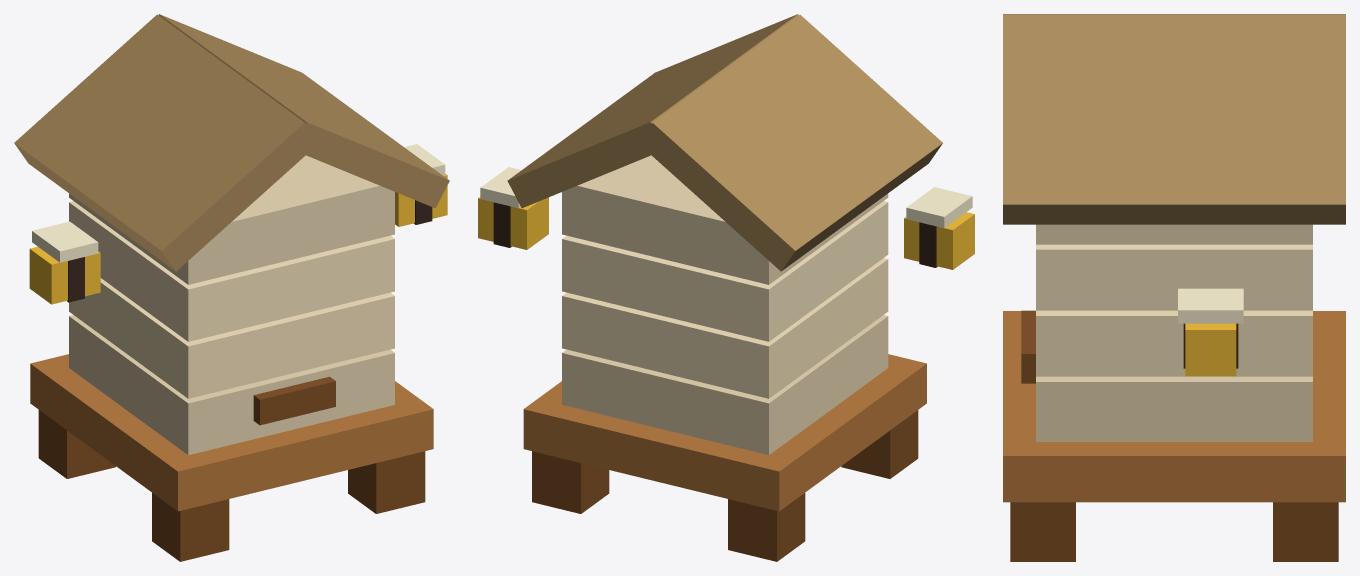
Rendered from machine-beehive.glb.
The picture shows the model from 3 angles, left to right: view 1: azimuth 30°, elevation 25°; view 2: azimuth 150°, elevation 25°; view 3: azimuth 270°, elevation 25°; orthographic projection. The views are drawn at different scales.
Parts seen in each view (by area): view 1: Roof l, Stand, Hive_p.001, Hive_p.002, Hive_p, Hive_p.003, Roof r, Foot, Foot.002, Foot.001, Slot, Bee (+3 smaller); view 2: Roof l, Stand, Hive_p.002, Hive_p.001, Hive_p, Hive_p.003, Roof r, Foot.001, Foot.003, Foot, Bee, Bee.001 (+4 smaller); view 3: Roof r, Stand, Hive_p, Hive_p.002, Hive_p.001, Hive_p.003, Foot.002, Foot.003, Bee.001, Wing.001, Slot.
Part boxes in pixels (x1=…): Roof l: x1=14, y1=14, x2=318, y2=271; Stand: x1=30, y1=354, x2=433, y2=511; Hive_p.001: x1=69, y1=278, x2=394, y2=398; Hive_p.002: x1=69, y1=201, x2=394, y2=341; Hive_p: x1=69, y1=315, x2=394, y2=455; Hive_p.003: x1=69, y1=155, x2=394, y2=284; Roof r: x1=158, y1=14, x2=449, y2=208; Foot: x1=152, y1=493, x2=229, y2=561; Foot.002: x1=348, y1=451, x2=425, y2=513; Foot.001: x1=38, y1=410, x2=115, y2=478; Slot: x1=253, y1=376, x2=335, y2=425; Bee: x1=29, y1=246, x2=100, y2=304; Roof l: x1=638, y1=14, x2=942, y2=271; Stand: x1=523, y1=354, x2=926, y2=511; Hive_p.002: x1=562, y1=201, x2=888, y2=341; Hive_p.001: x1=562, y1=258, x2=888, y2=398; Hive_p: x1=562, y1=315, x2=888, y2=455; Hive_p.003: x1=562, y1=155, x2=888, y2=284; Roof r: x1=507, y1=14, x2=798, y2=207; Foot.001: x1=728, y1=493, x2=805, y2=561; Foot.003: x1=532, y1=451, x2=609, y2=513; Foot: x1=841, y1=410, x2=918, y2=478; Bee: x1=904, y1=212, x2=974, y2=269; Bee.001: x1=478, y1=197, x2=548, y2=249; Roof r: x1=1003, y1=15, x2=1345, y2=224; Stand: x1=1003, y1=311, x2=1345, y2=502; Hive_p: x1=1036, y1=376, x2=1312, y2=441; Hive_p.002: x1=1036, y1=244, x2=1312, y2=310; Hive_p.001: x1=1036, y1=310, x2=1312, y2=376; Hive_p.003: x1=1036, y1=224, x2=1312, y2=244; Foot.002: x1=1010, y1=502, x2=1075, y2=561; Foot.003: x1=1273, y1=502, x2=1338, y2=561; Bee.001: x1=1185, y1=323, x2=1236, y2=376; Wing.001: x1=1178, y1=288, x2=1243, y2=323; Slot: x1=1021, y1=310, x2=1035, y2=383.
Bounding box in the file's own units: 1.6 × 1.45 × 0.94.
